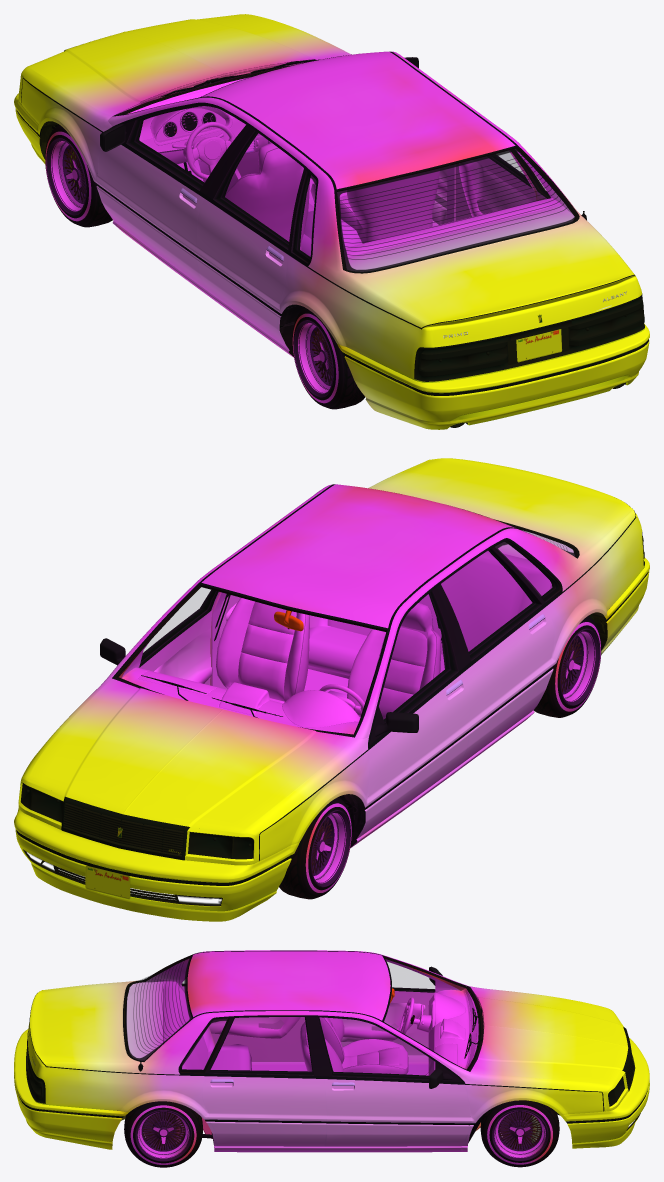
The model's file is primo2.glb.
The picture shows the model from 3 angles, top to bottom: view 1: azimuth 30°, elevation 25°; view 2: azimuth 150°, elevation 25°; view 3: azimuth 270°, elevation 25°; orthographic projection. The views are drawn at different scales.
Visible parts, largest first — view 1: bodyshell, boot, windscreen_r, bonnet, bumper_r, door_dside_f, door_dside_r, misc_k, misc_q, misc_l, window_lf, window_lr (+10 smaller); view 2: bodyshell, bonnet, misc_l, misc_w, misc_k, door_dside_f, boot, door_dside_r, wing_lf, window_lr, window_lf, wheel_lf (+10 smaller); view 3: bodyshell, bonnet, door_pside_f, door_pside_r, boot, misc_l, window_rr, window_rf, windscreen_r, wing_rf, wheel_rf, wheel_rr (+11 smaller).
Boxes of the visible parts, bbox=[...] form: bodyshell: bbox=[18, 51, 644, 382]; boot: bbox=[350, 217, 636, 346]; windscreen_r: bbox=[337, 148, 576, 271]; bonnet: bbox=[28, 14, 349, 116]; bumper_r: bbox=[337, 323, 649, 429]; door_dside_f: bbox=[96, 102, 251, 293]; door_dside_r: bbox=[194, 126, 305, 347]; misc_k: bbox=[225, 143, 439, 250]; misc_q: bbox=[344, 198, 574, 271]; misc_l: bbox=[128, 77, 572, 256]; window_lf: bbox=[129, 106, 244, 188]; window_lr: bbox=[216, 132, 302, 246]; bodyshell: bbox=[18, 459, 644, 865]; bonnet: bbox=[27, 678, 354, 833]; misc_l: bbox=[119, 556, 552, 734]; misc_w: bbox=[14, 808, 299, 921]; misc_k: bbox=[216, 598, 440, 719]; door_dside_f: bbox=[361, 585, 471, 835]; boot: bbox=[370, 458, 632, 554]; door_dside_r: bbox=[435, 546, 554, 766]; wing_lf: bbox=[241, 737, 369, 862]; window_lr: bbox=[442, 550, 538, 657]; window_lf: bbox=[379, 593, 455, 721]; wheel_lf: bbox=[279, 797, 351, 899]; bodyshell: bbox=[26, 950, 628, 1152]; bonnet: bbox=[470, 987, 628, 1085]; door_pside_f: bbox=[311, 1015, 470, 1146]; door_pside_r: bbox=[202, 1015, 327, 1146]; boot: bbox=[28, 981, 136, 1074]; misc_l: bbox=[145, 958, 478, 1075]; window_rr: bbox=[210, 1017, 312, 1074]; window_rf: bbox=[319, 1018, 435, 1078]; windscreen_r: bbox=[125, 956, 191, 1060]; wing_rf: bbox=[460, 1072, 612, 1151]; wheel_rf: bbox=[480, 1100, 559, 1167]; wheel_rr: bbox=[124, 1101, 202, 1167].
Bounding box in the file's own units: 2.16 × 1.33 × 5.24.
Materials: 27 (17 with a texture image).
